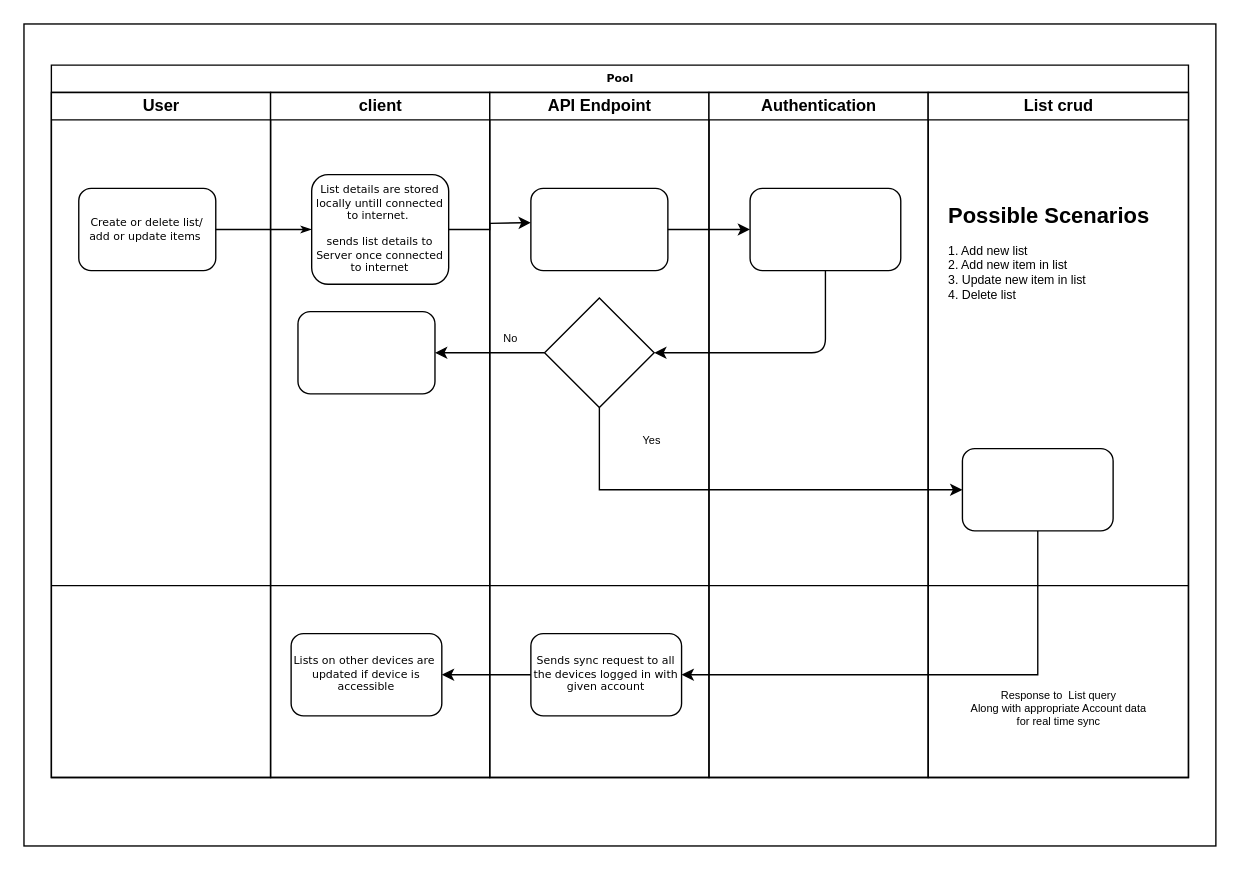
This 1240x870 diagram has some shape labels left out. The centre of each missing label's shape, as x and y in pixels:
Displays failure message: pixel 366 352
isValid: pixel 598 352
Perform CRUD operation on List related database: pixel 1037 489
Returns true if list operation is for intended account else false: pixel 825 229
sends request for authentication: pixel 599 229
